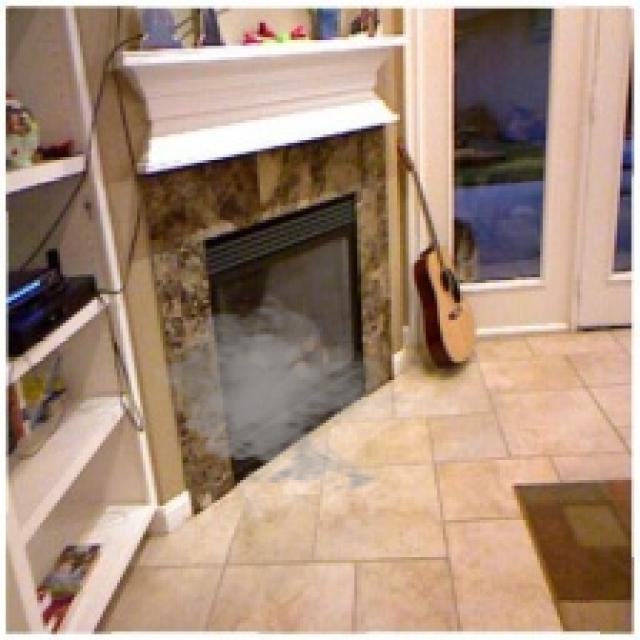Smoke: (152, 292, 414, 497)
